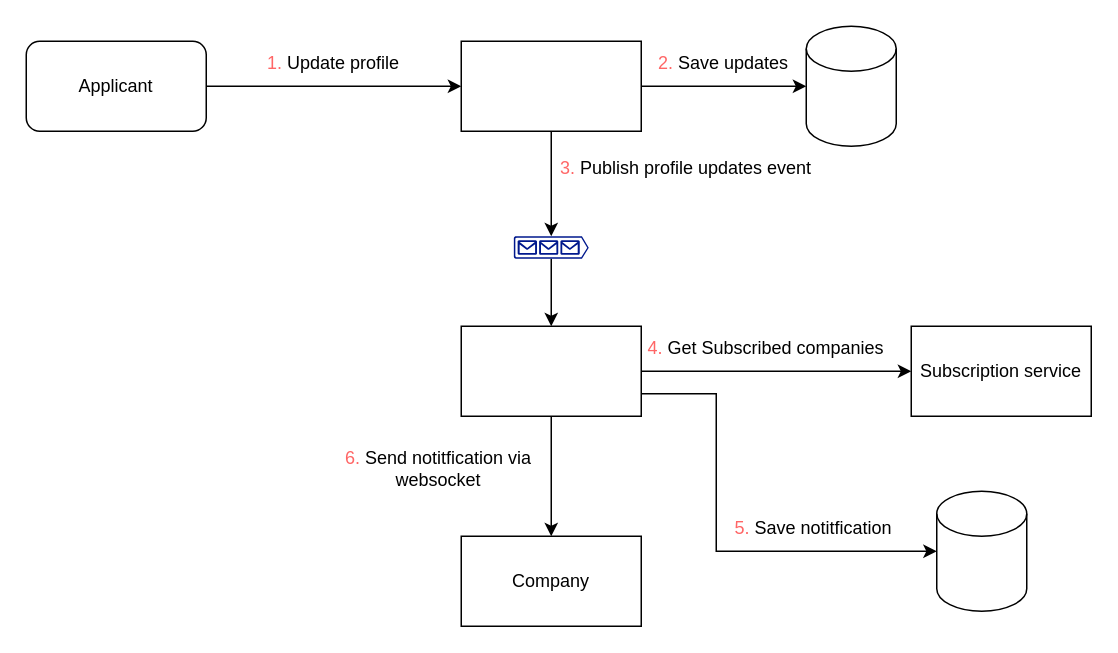
The diagram is 1118 pixels wide and 653 high, and some of its shapes have lost their labels. Here are the shapes that lost their labels. From the top down, the centre of each, then its label:
At (550,85): "Applicant service".
At (550,370): "Notification service".
